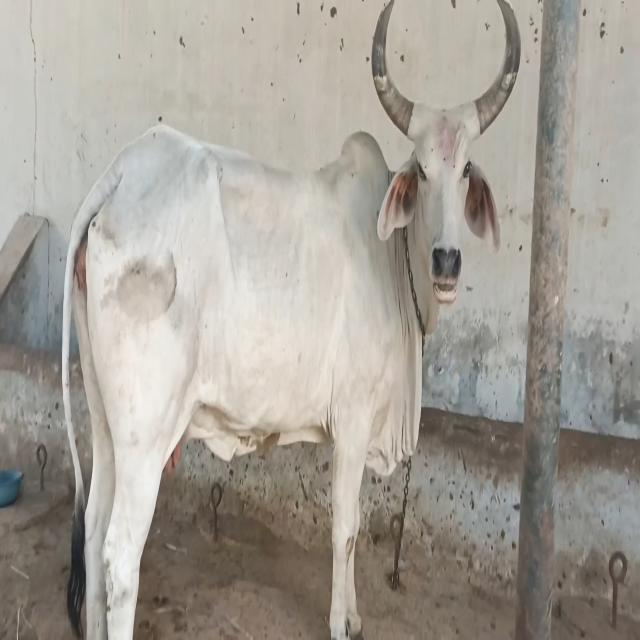Breed: (16, 0, 534, 635)
